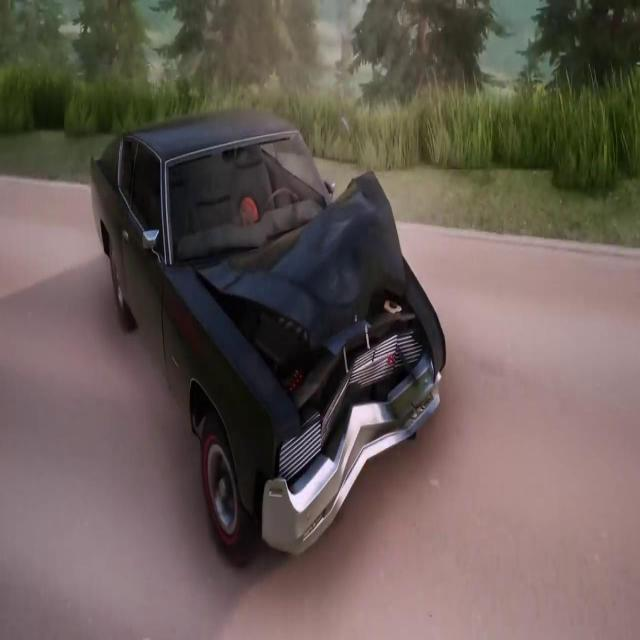moderate: (86, 103, 452, 579)
